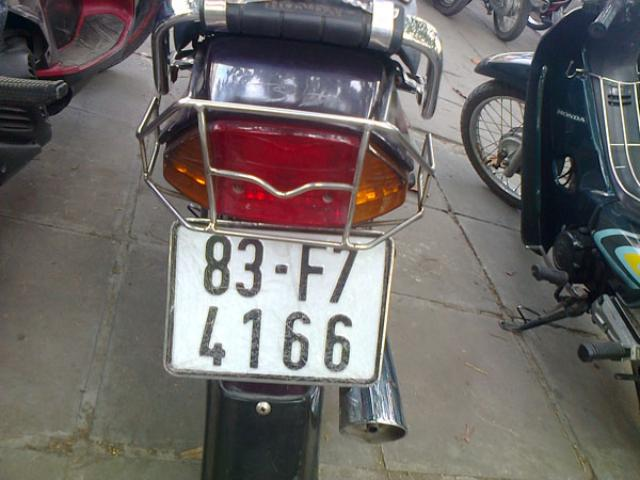plate: (178, 220, 380, 386)
